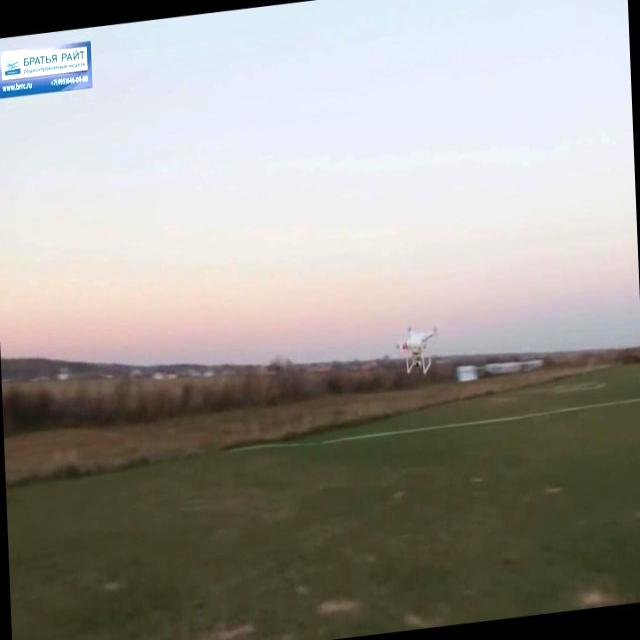drone: (397, 319, 447, 384)
